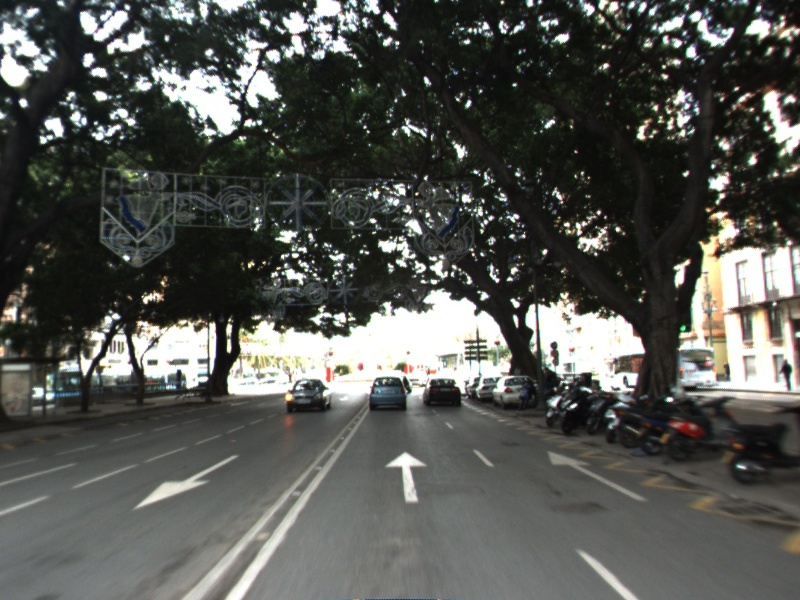STRAIGHT: (545, 449, 651, 503), (382, 449, 430, 506)
